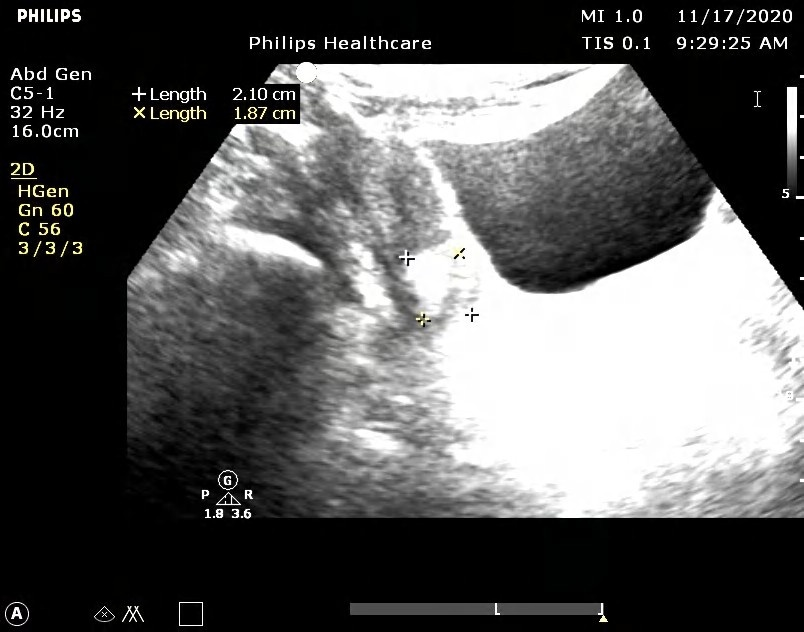肌瘤: (407, 246, 476, 317)
